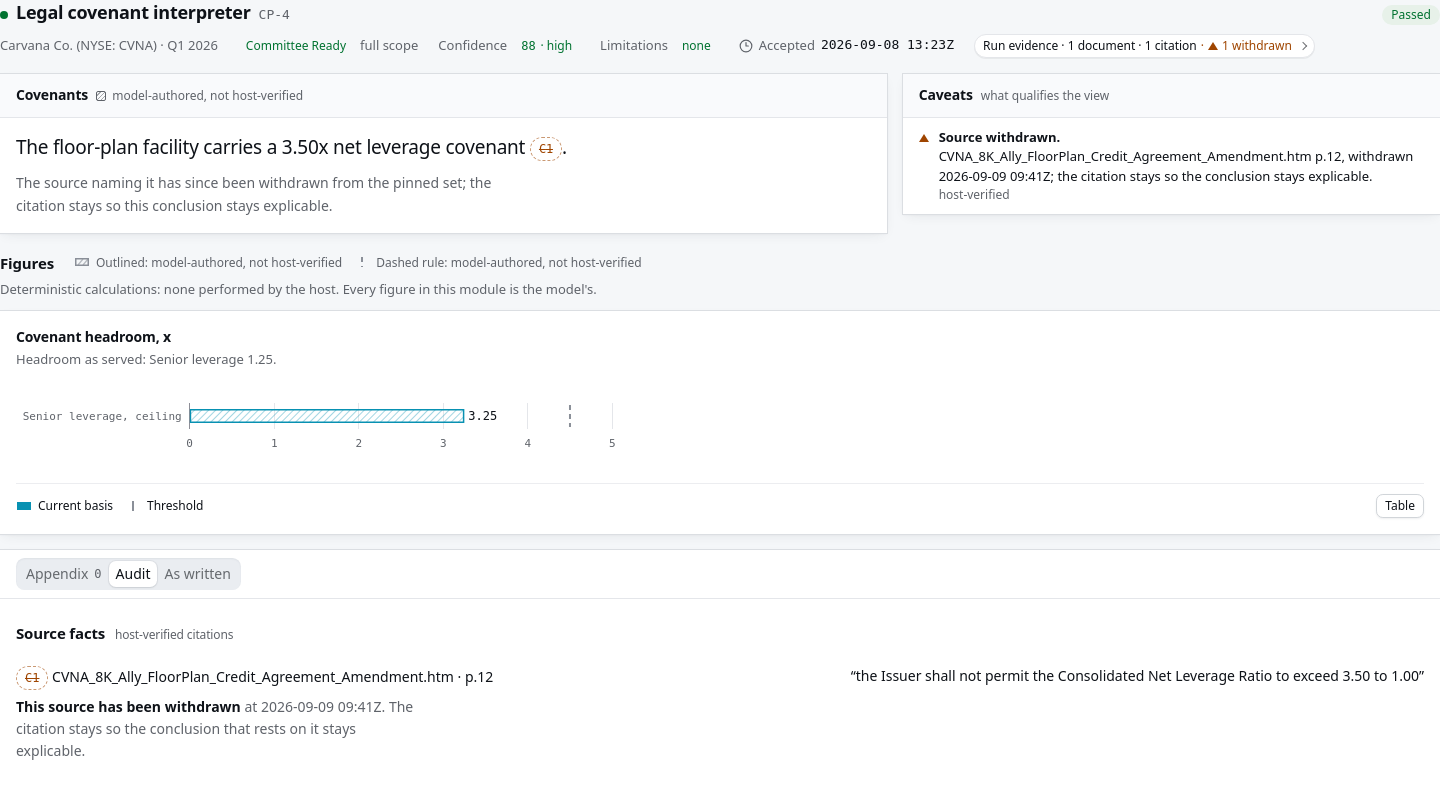
Scenario: pressing a covenant's bar names its current basis and stated source
This screenshot has width=1440, height=810.
Click the button named "current basis 3.25 x".
click(327, 416)  # box [190, 404, 464, 428]
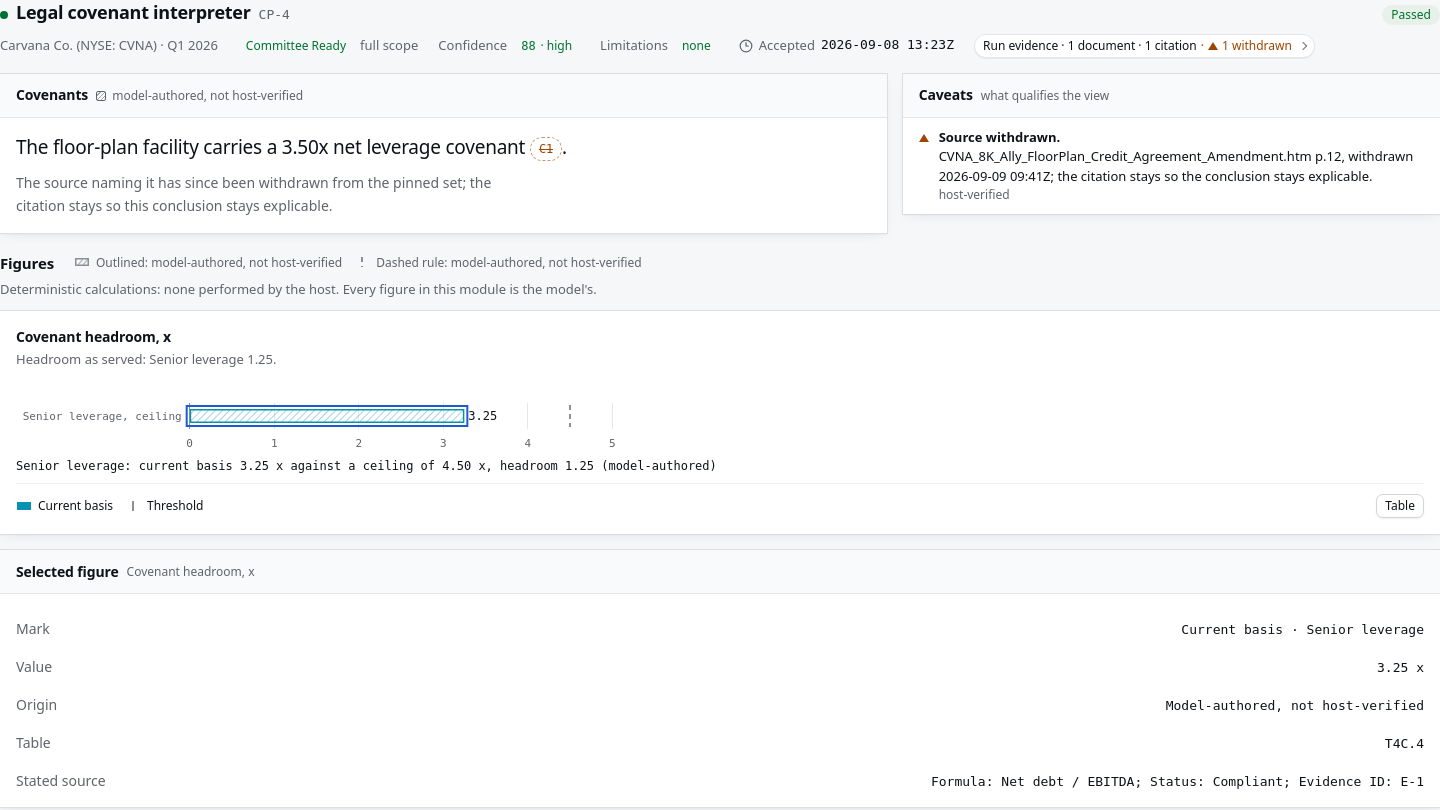
Expected: the text "3.25 x" is shown, [1377, 660, 1424, 675]
Expected: the element that starts with "Selected figure" shows "Current basis · Senior leverage", [1181, 622, 1424, 637]
Expected: the element that starts with "Selected figure" shows "Formula: Net debt / EBITDA; Status: Compliant; Evidence ID: E-1", [931, 774, 1424, 789]
